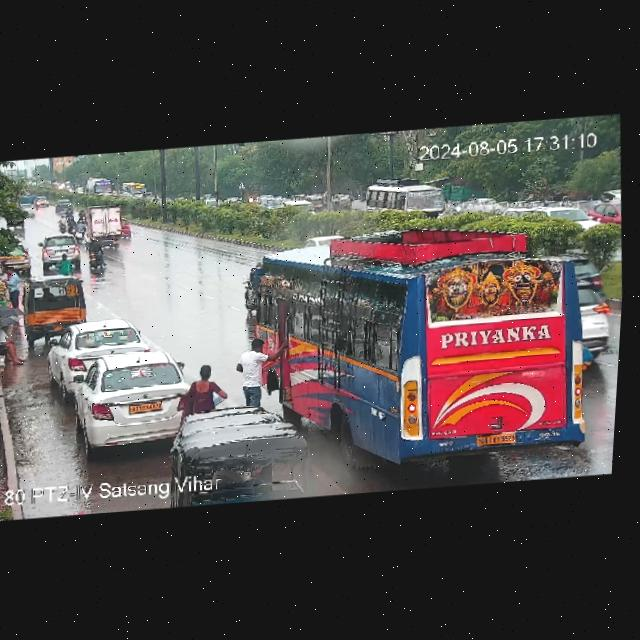bus: (231, 206, 614, 435), (361, 175, 451, 223)
car: (69, 348, 192, 449), (50, 321, 150, 387), (19, 275, 91, 338), (41, 234, 82, 271), (10, 242, 35, 266), (330, 192, 354, 209), (120, 216, 131, 239), (55, 199, 72, 212), (19, 203, 35, 215)
motorcycle: (86, 236, 104, 270), (73, 218, 86, 241), (56, 214, 68, 233), (67, 215, 77, 234), (78, 208, 86, 222)
person: (234, 333, 273, 405), (188, 363, 227, 410), (0, 318, 30, 370), (0, 264, 29, 304), (55, 253, 71, 275), (0, 264, 10, 278)
truck: (78, 203, 129, 247)
